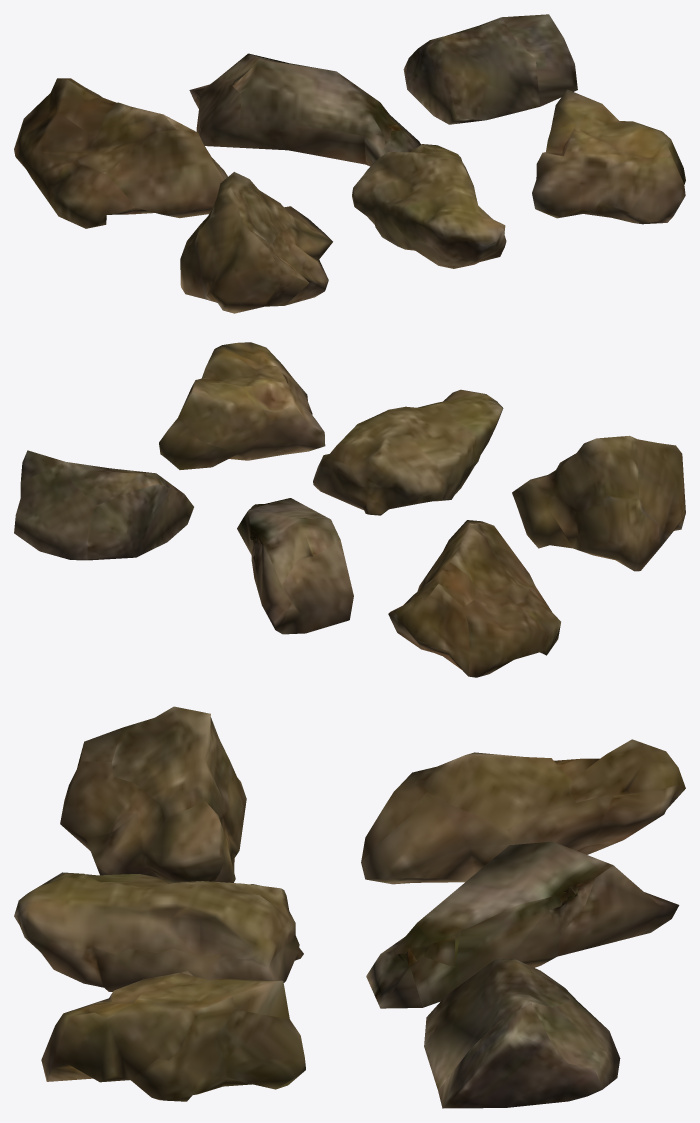
File: rock_moss_set_01.glb
3 renders of one model, top to bottom at view 1: azimuth 30°, elevation 25°; view 2: azimuth 150°, elevation 25°; view 3: azimuth 270°, elevation 25°, orthographic. The views are drawn at different scales.
Visible parts, largest first — view 1: rock_moss_set_01_rock01, rock_moss_set_01_rock02, rock_moss_set_01_rock06, rock_moss_set_01_rock04, rock_moss_set_01_rock03, rock_moss_set_01_rock05; view 2: rock_moss_set_01_rock04, rock_moss_set_01_rock01, rock_moss_set_01_rock05, rock_moss_set_01_rock03, rock_moss_set_01_rock06, rock_moss_set_01_rock02; view 3: rock_moss_set_01_rock01, rock_moss_set_01_rock05, rock_moss_set_01_rock02, rock_moss_set_01_rock06, rock_moss_set_01_rock04, rock_moss_set_01_rock03.
Boxes of the visible parts, x1=… form: rock_moss_set_01_rock01: x1=14, y1=78, x2=227, y2=228; rock_moss_set_01_rock02: x1=189, y1=53, x2=420, y2=166; rock_moss_set_01_rock06: x1=532, y1=89, x2=685, y2=224; rock_moss_set_01_rock04: x1=180, y1=172, x2=332, y2=313; rock_moss_set_01_rock03: x1=403, y1=14, x2=577, y2=124; rock_moss_set_01_rock05: x1=352, y1=144, x2=506, y2=268; rock_moss_set_01_rock04: x1=512, y1=435, x2=685, y2=571; rock_moss_set_01_rock01: x1=388, y1=520, x2=560, y2=677; rock_moss_set_01_rock05: x1=313, y1=389, x2=503, y2=515; rock_moss_set_01_rock03: x1=14, y1=450, x2=193, y2=560; rock_moss_set_01_rock06: x1=159, y1=342, x2=325, y2=469; rock_moss_set_01_rock02: x1=237, y1=498, x2=353, y2=634; rock_moss_set_01_rock01: x1=361, y1=739, x2=685, y2=884; rock_moss_set_01_rock05: x1=14, y1=872, x2=303, y2=991; rock_moss_set_01_rock02: x1=366, y1=841, x2=679, y2=1008; rock_moss_set_01_rock06: x1=41, y1=970, x2=305, y2=1101; rock_moss_set_01_rock04: x1=60, y1=706, x2=246, y2=882; rock_moss_set_01_rock03: x1=424, y1=958, x2=620, y2=1108.
Bounding box in the file's own units: 7.98 × 1.76 × 6.94.
1 material, 1 textured.
